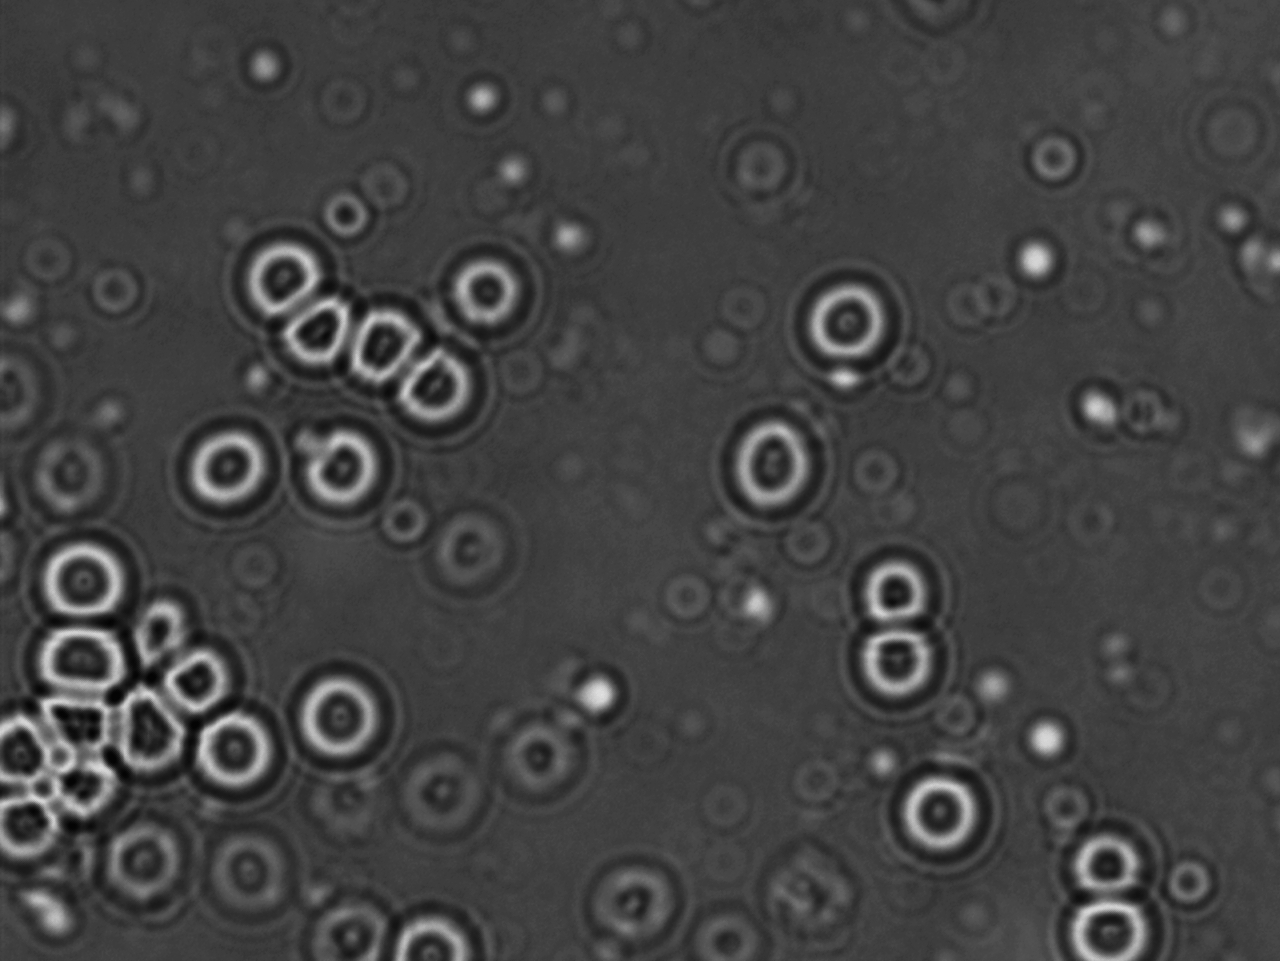depth:8: (711, 400, 840, 529), (783, 257, 912, 377), (280, 649, 406, 767), (168, 410, 287, 533), (17, 522, 148, 632), (882, 756, 1003, 871), (387, 326, 502, 446), (429, 233, 542, 351), (837, 609, 961, 716), (283, 408, 398, 523), (837, 532, 957, 637), (226, 220, 340, 329), (179, 695, 291, 800), (1050, 809, 1168, 907), (332, 286, 437, 396), (20, 610, 131, 707), (99, 677, 202, 780), (1047, 878, 1170, 961), (149, 629, 253, 721), (262, 282, 358, 380), (381, 883, 485, 961)
